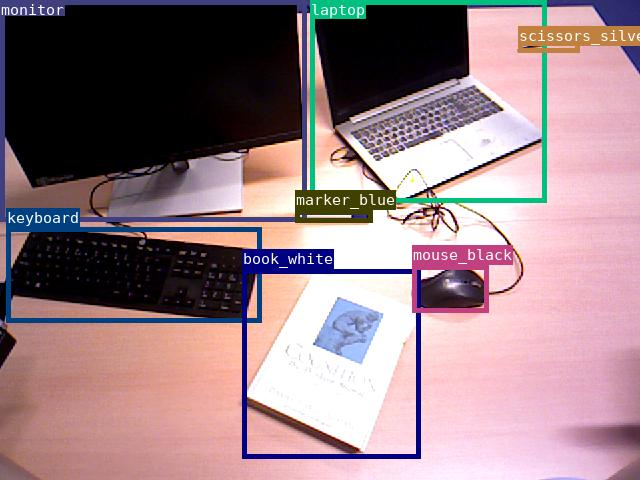book_white: (242, 269, 420, 458)
keyboard: (6, 227, 261, 322)
laptop: (310, 0, 546, 202)
marker_blue: (295, 210, 372, 222)
monitor: (0, 0, 306, 221)
mouse_black: (412, 265, 488, 312)
scissors_silver: (518, 26, 579, 52)
